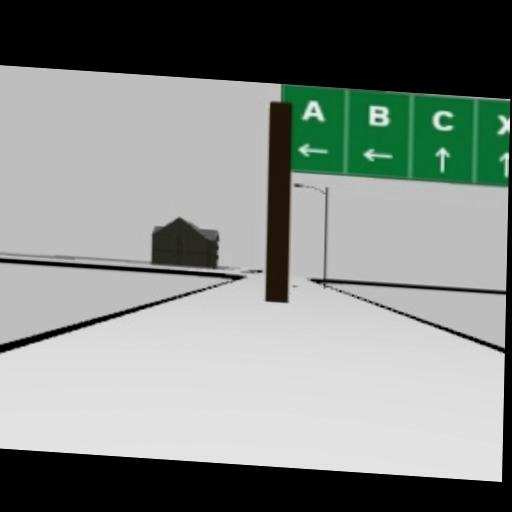A: (300, 97, 326, 121)
B: (366, 103, 390, 126)
C: (431, 107, 455, 130)
Left: (360, 145, 394, 161), (296, 141, 328, 157)
Straight: (434, 145, 450, 171), (498, 148, 509, 174)
X: (496, 112, 510, 134)
